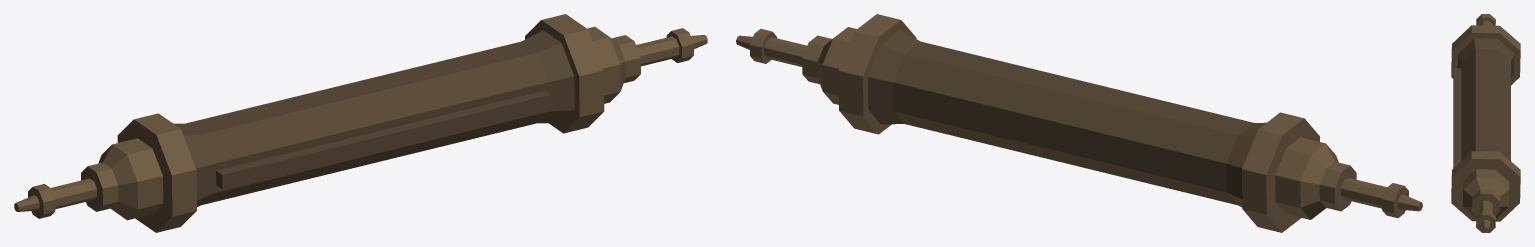
Rendered from scroll.glb.
3 views of the same model, side by side, from view 1: azimuth 30°, elevation 25°; view 2: azimuth 150°, elevation 25°; view 3: azimuth 270°, elevation 25° (orthographic). The views are drawn at different scales.
Visible parts, largest first — view 1: SM_Prop_Scroll_01; view 2: SM_Prop_Scroll_01; view 3: SM_Prop_Scroll_01.
Boxes of the visible parts, box(x1,y1,x2,y2) form: SM_Prop_Scroll_01: box(14, 14, 707, 232); SM_Prop_Scroll_01: box(736, 14, 1422, 232); SM_Prop_Scroll_01: box(1451, 14, 1520, 232).
Size of the model in its own units: 78.36 by 10.77 by 10.77.
1 material, 1 textured.
